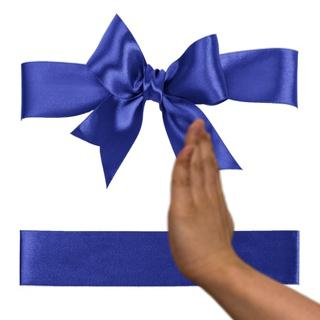RIGHT: (160, 113, 243, 289)
